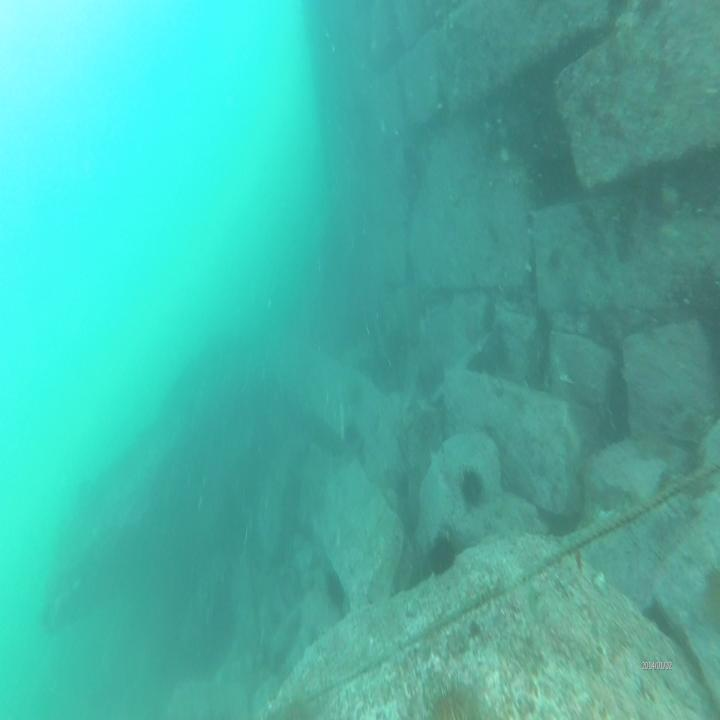echinus: (428, 536, 456, 580), (463, 469, 485, 509)
